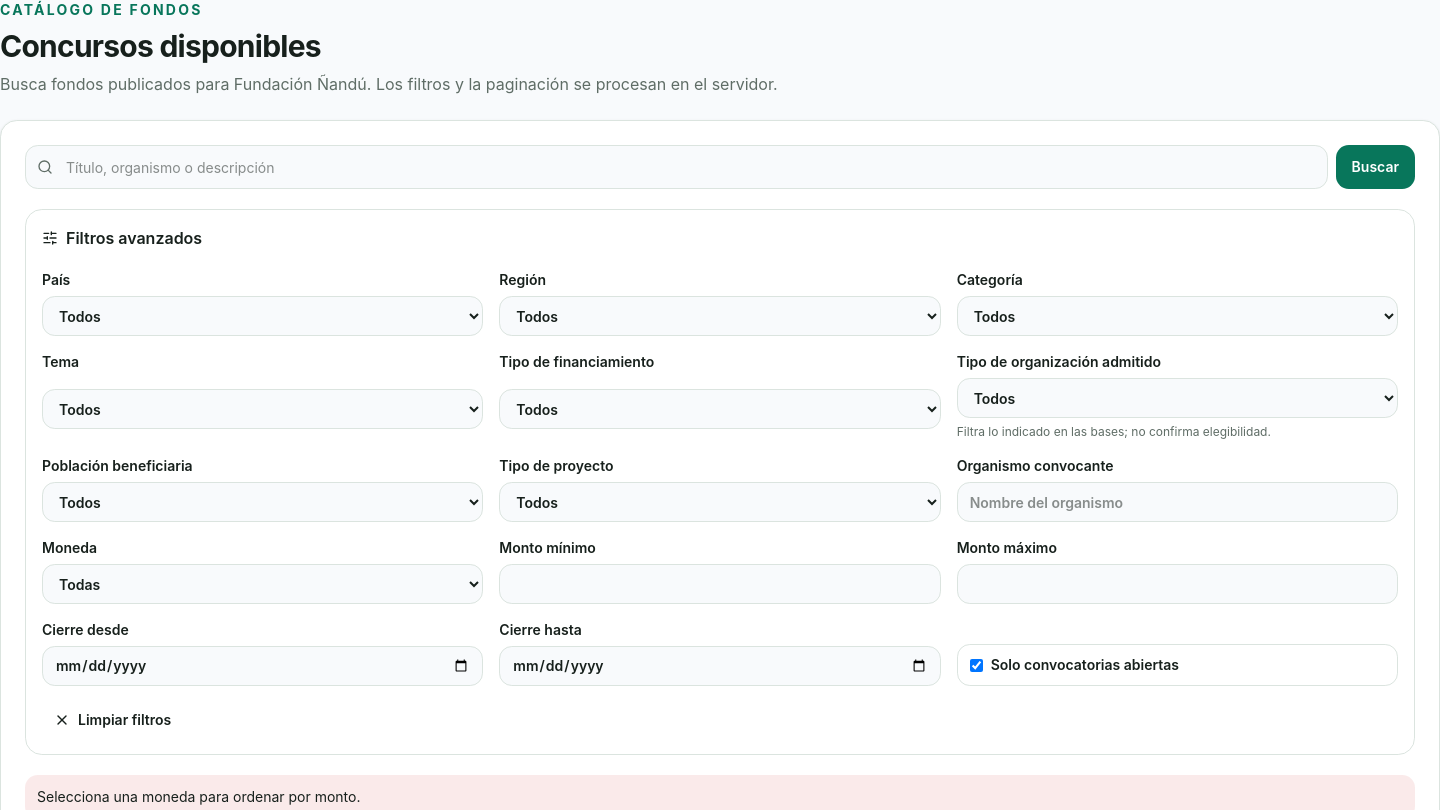
Test case: organization funding ES/EN › keeps invalid criteria blocked in both languages (sort=amount-desc)
Expected: the message reads "Selecciona una moneda para ordenar por monto.", [37,788,360,805]
Click the heading "Filtros avanzados": (122, 238) [42,228,202,248]
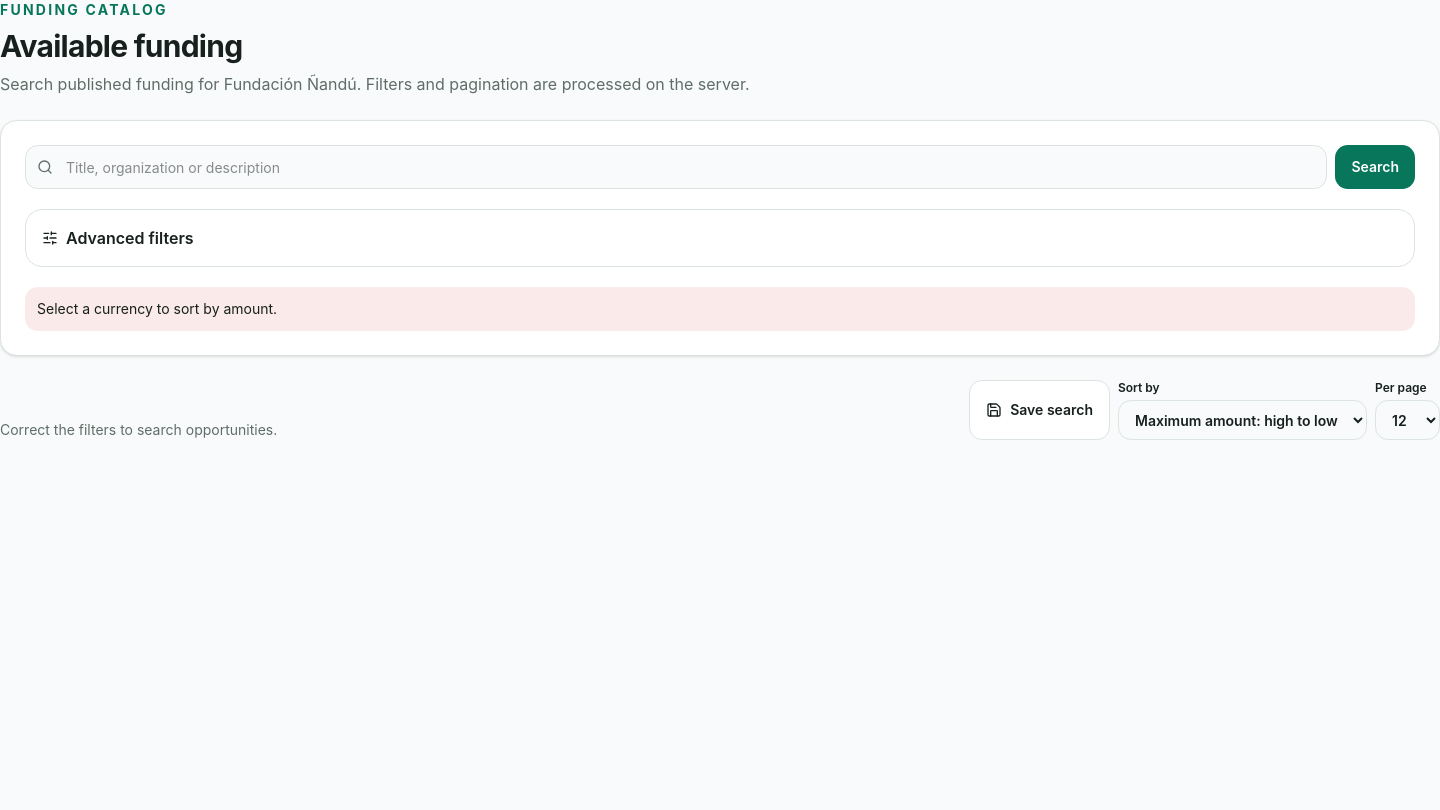
Expected: the message "Select a currency to sort by amount." is shown, [25,287,1415,331]
Now the message reads "Select a currency to sort by amount.", box [37,300,277,317]
